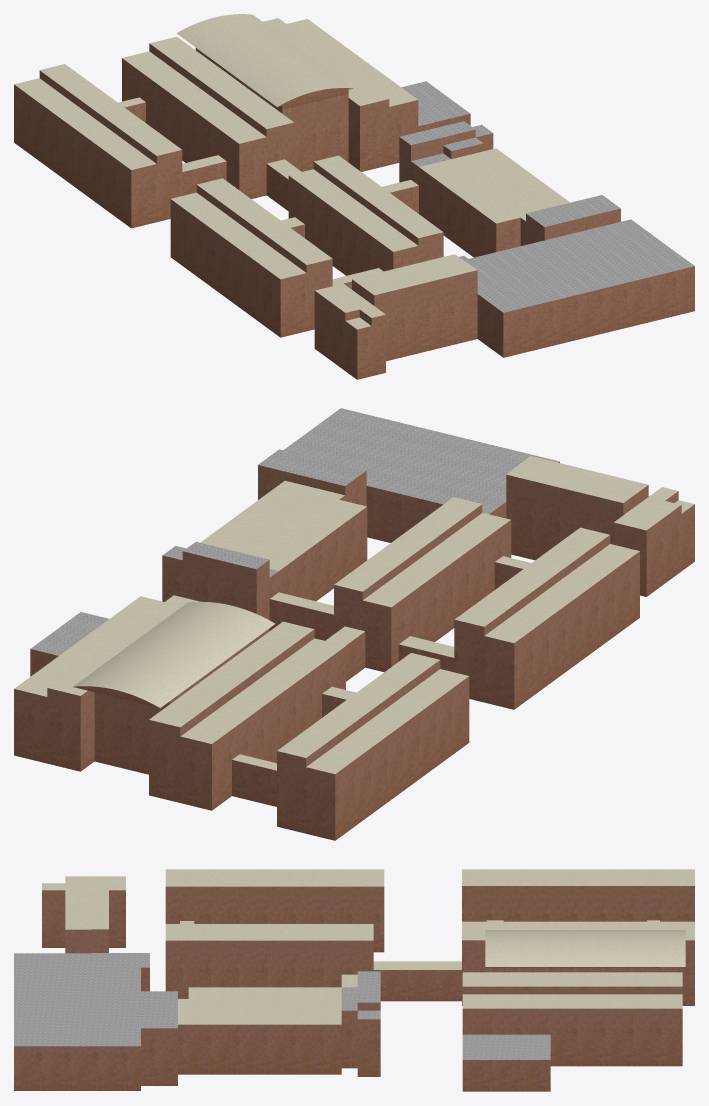
Rendered from jxl(q-m-n).gltf.
The picture shows the model from 3 angles, top to bottom: view 1: azimuth 30°, elevation 25°; view 2: azimuth 150°, elevation 25°; view 3: azimuth 270°, elevation 25°; orthographic projection. The views are drawn at different scales.
Parts seen in each view (by area): view 1: root; view 2: root; view 3: root.
Part boxes in pixels (x1,y1,x2,y2): root: (14,14,694,379); root: (14,408,694,840); root: (14,869,694,1091).
Size of the model in its own units: 134 by 30.46 by 235.
4 materials, 3 textured.
